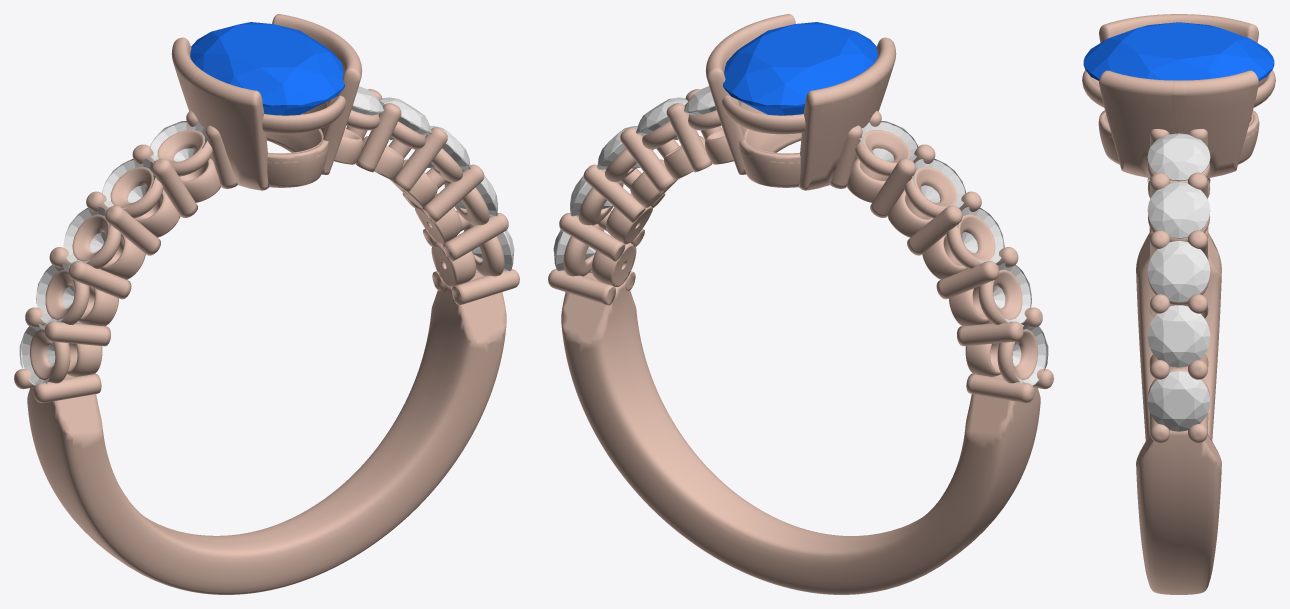
File: bluesapphire-oval-rosegold-halfmoonbezel-straighttaperedband-11stone.glb
3 views of the same model, side by side, from view 1: azimuth 30°, elevation 25°; view 2: azimuth 150°, elevation 25°; view 3: azimuth 270°, elevation 25° (orthographic).
Visible parts, largest first — view 1: metal, stone.003, side.032, side.033, side.031, side.034, side.030, side.038; view 2: metal, stone.003, side.032, side.033, side.031, side.034, side.030, side.038; view 3: metal, stone.003, side.036, side.037, side.035, side.038, side.039.
Part boxes in pixels (x1,y1,x2,y2): metal: (14,14,519,594); stone.003: (190,22,344,115); side.032: (63,206,110,263); side.033: (102,158,155,208); side.031: (36,262,76,323); side.034: (150,121,208,161); side.030: (19,323,55,385); side.038: (379,97,431,140); metal: (548,14,1053,594); stone.003: (723,22,877,115); side.032: (957,206,1004,263); side.033: (912,158,965,208); side.031: (991,262,1031,323); side.034: (859,121,917,161); side.030: (1012,323,1048,385); side.038: (636,97,688,140); metal: (1082,14,1275,594); stone.003: (1083,22,1274,80); side.036: (1147,305,1210,367); side.037: (1147,241,1210,302); side.035: (1147,371,1210,431); side.038: (1147,182,1210,238); side.039: (1147,133,1210,181).
Bounding box in the file's own units: 22.01 × 23.41 × 7.75.
